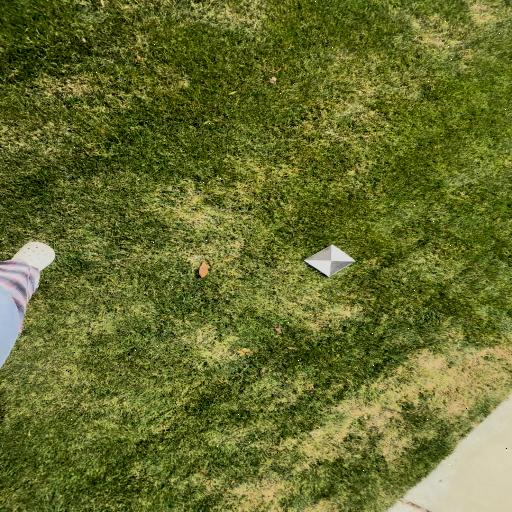target: (303, 245, 356, 276)
